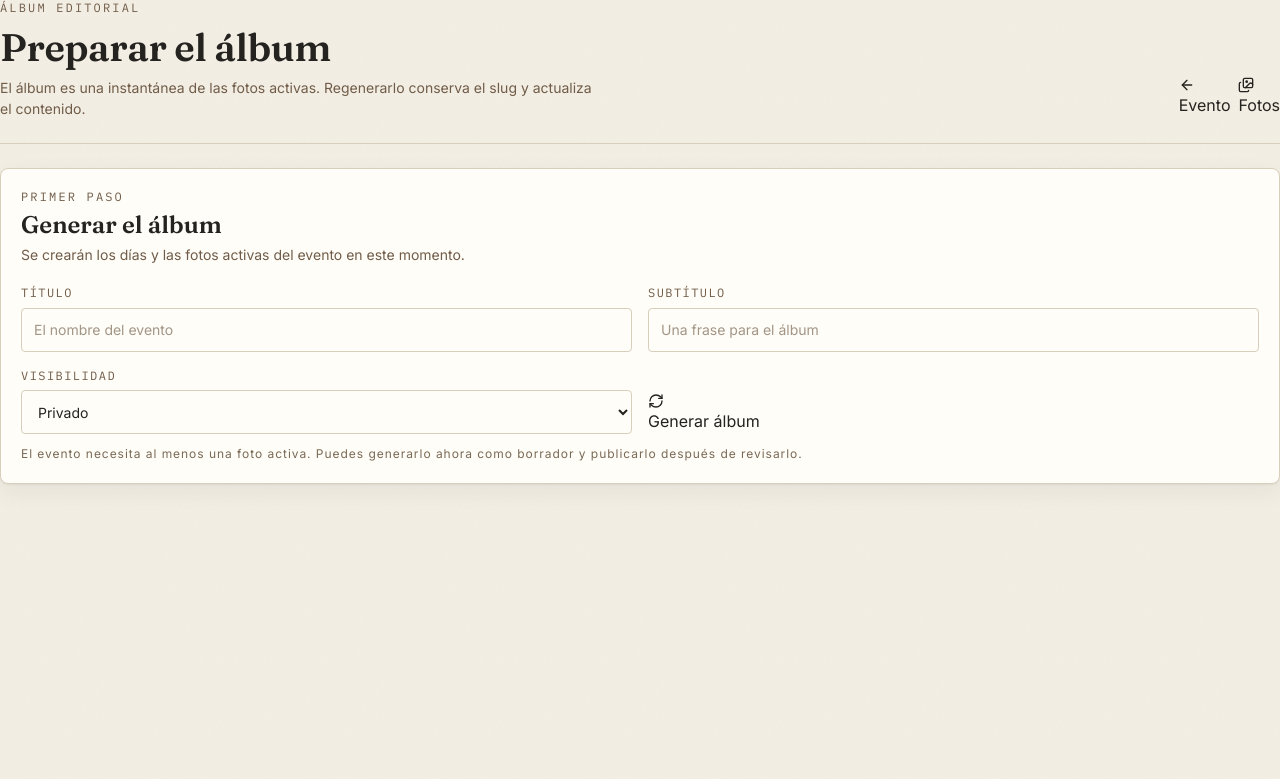
Test: AdminAlbumPage › permite generar el primer álbum
The width and height of the screenshot is (1280, 779).
Expected: the heading "Preparar el álbum" is shown, 0,23 -> 331,71
Type "Los mejores momentos" into the field labelled "Título" at {"x": 326, "y": 330}, box 21,308 -> 632,352
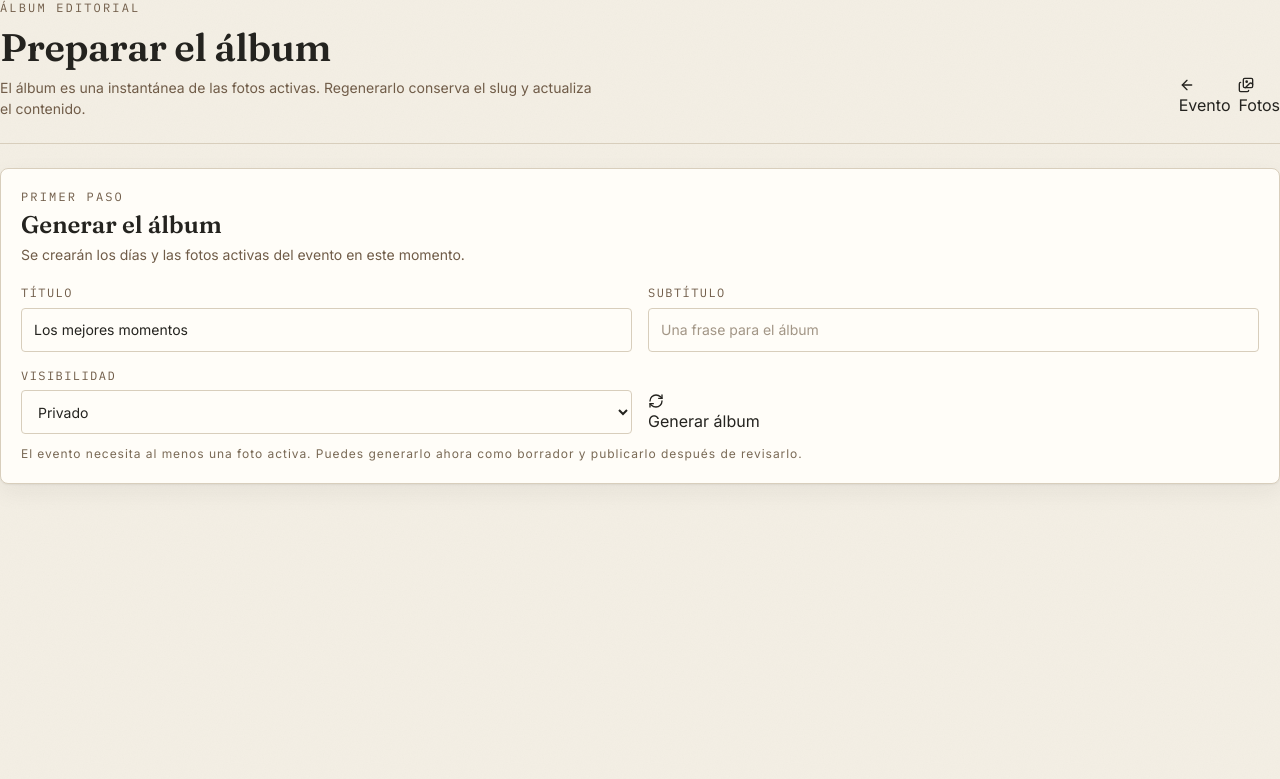
Type "Una tarde para recordar." into the field labelled "Subtítulo" at {"x": 954, "y": 330}, box 648,308 -> 1259,352
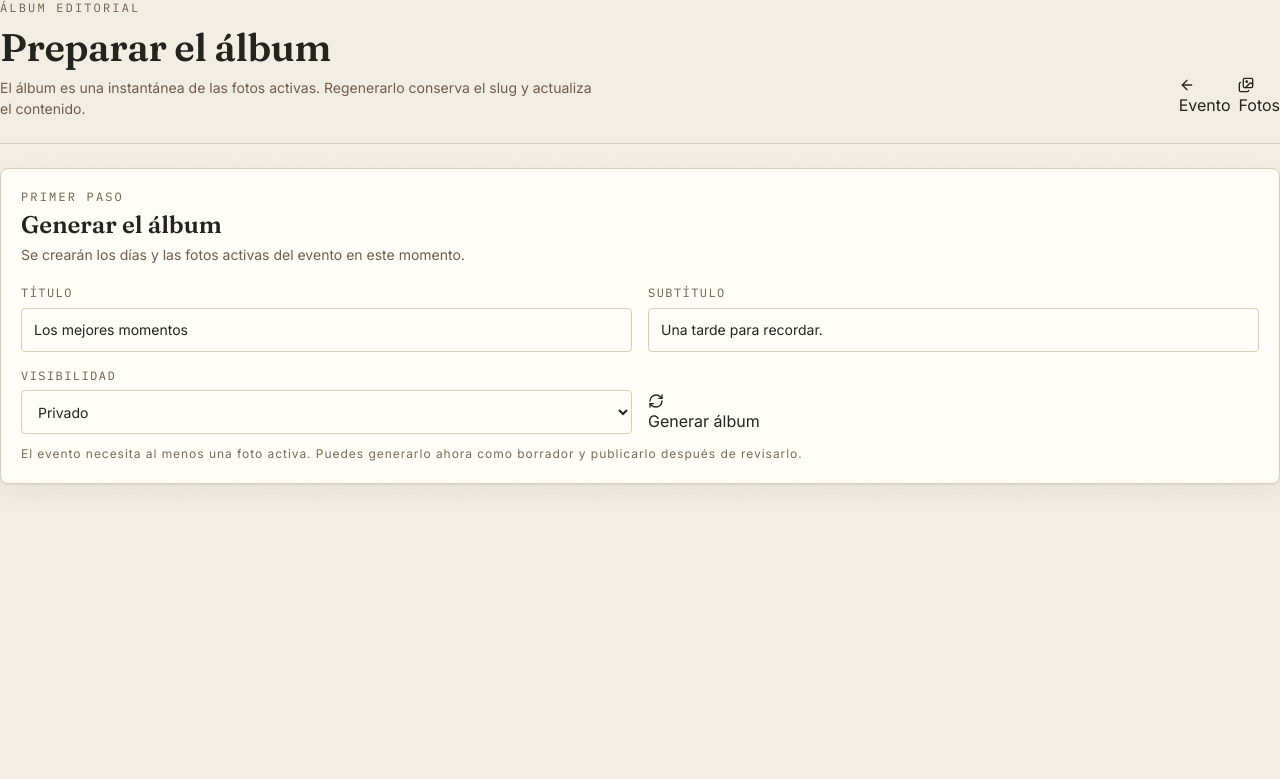
Select "Público" in the dropdown labelled "Visibilidad" at {"x": 326, "y": 412}, box 21,390 -> 632,434
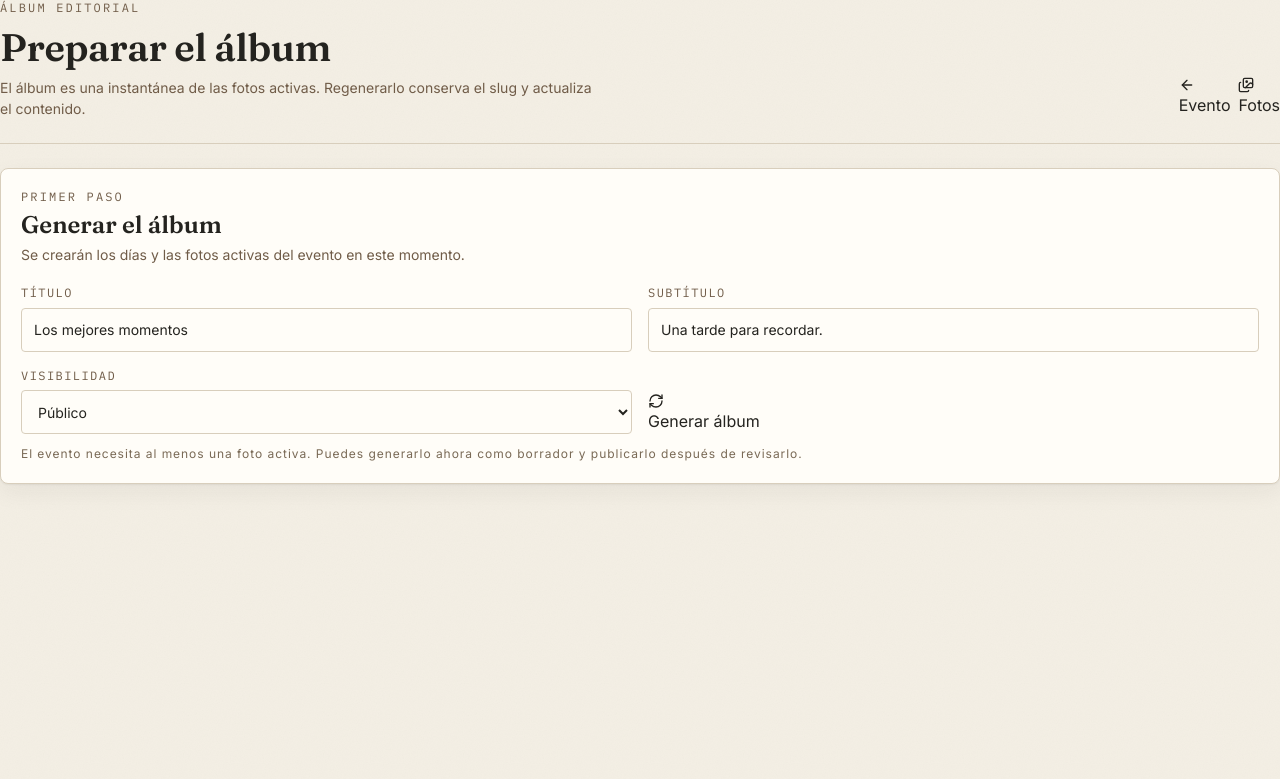
Click the button "Generar álbum" at {"x": 704, "y": 414}, box 648,393 -> 760,434
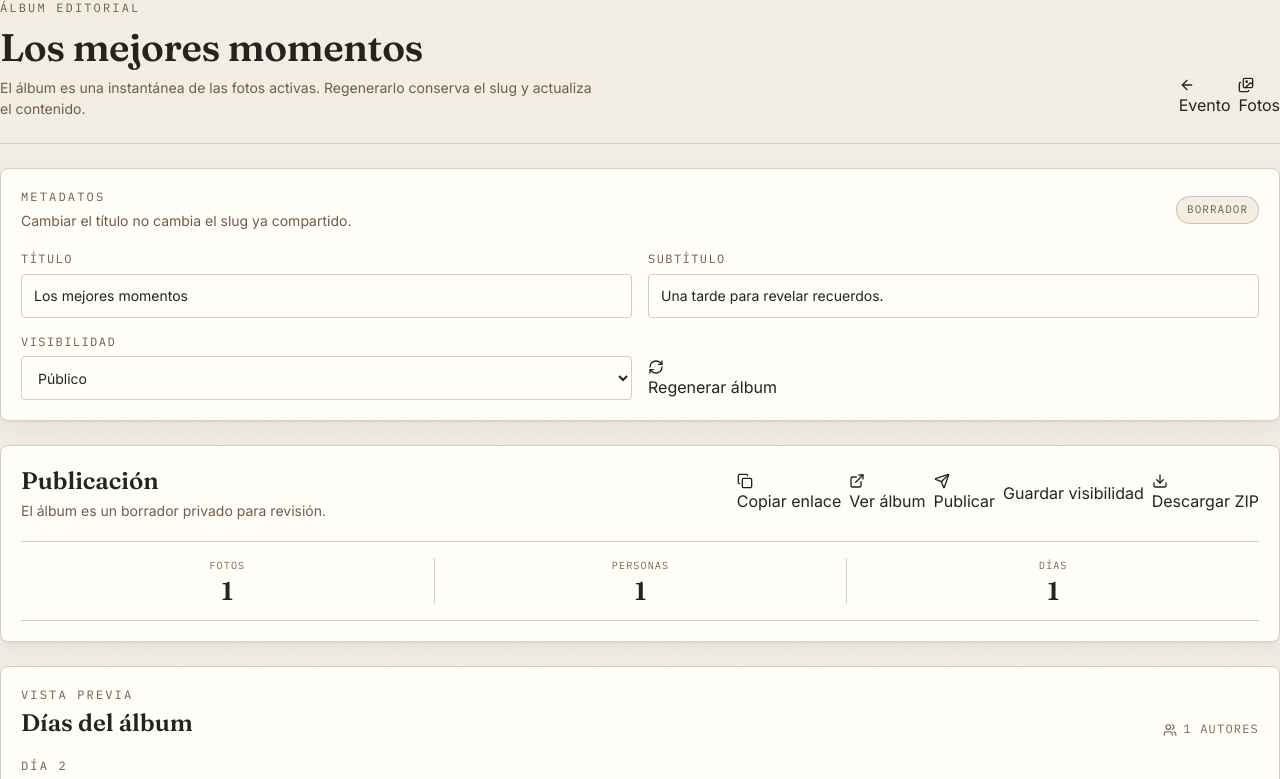
Expected: the heading "Los mejores momentos" is shown, 0,23 -> 423,71
